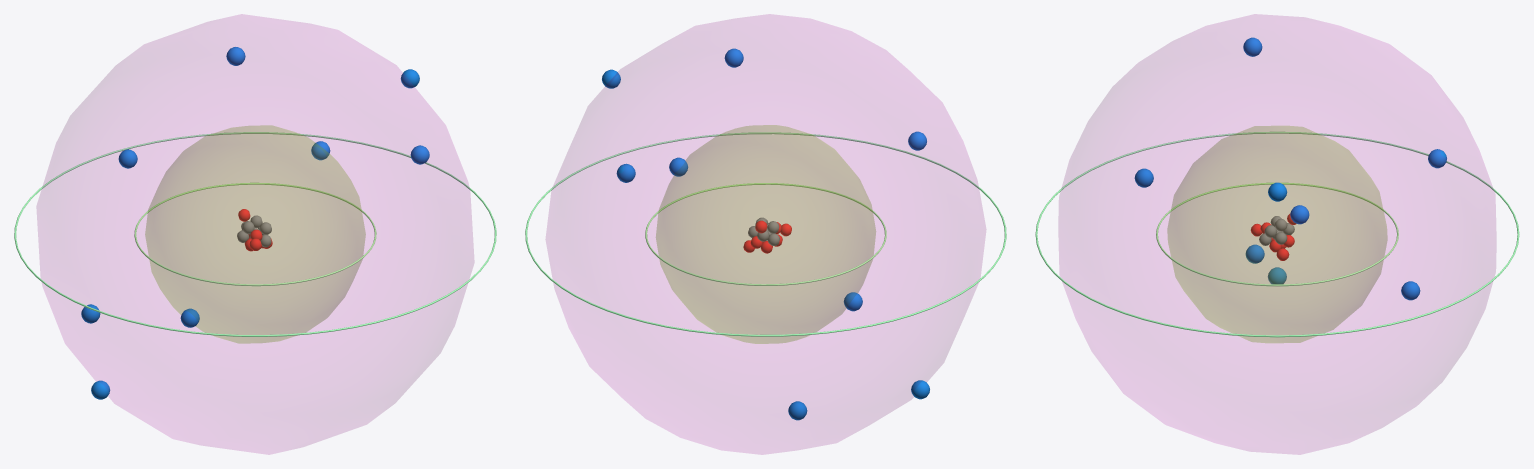
3 views of the same model, side by side, from view 1: azimuth 30°, elevation 25°; view 2: azimuth 150°, elevation 25°; view 3: azimuth 270°, elevation 25° (orthographic).
Visible parts, largest first — view 1: Orbital_2s_0, Orbital_1s_0, Nivel_n2, Nivel_n1; view 2: Orbital_2s_0, Orbital_1s_0, Nivel_n2, Nivel_n1; view 3: Orbital_2s_0, Orbital_1s_0, Nivel_n2, Nivel_n1.
Boxes of the visible parts, x1,y1,x2,y2 form: Orbital_2s_0: (37, 14, 473, 454); Orbital_1s_0: (145, 125, 365, 343); Nivel_n2: (14, 132, 496, 336); Nivel_n1: (134, 182, 376, 286); Orbital_2s_0: (546, 14, 985, 454); Orbital_1s_0: (656, 125, 875, 343); Nivel_n2: (525, 132, 1006, 336); Nivel_n1: (645, 183, 886, 285); Orbital_2s_0: (1059, 14, 1495, 454); Orbital_1s_0: (1167, 126, 1387, 342); Nivel_n2: (1035, 131, 1519, 337); Nivel_n1: (1156, 182, 1398, 286).
Bounding box in the file's own units: 0.6024 × 0.5449 × 0.6024.
